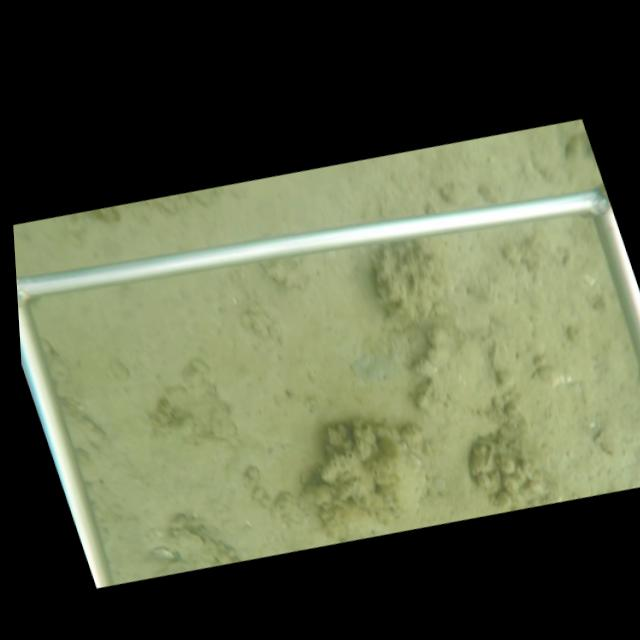Oyster-Closed: (370, 421, 432, 524)
Oyster-Open: (470, 435, 498, 476)
